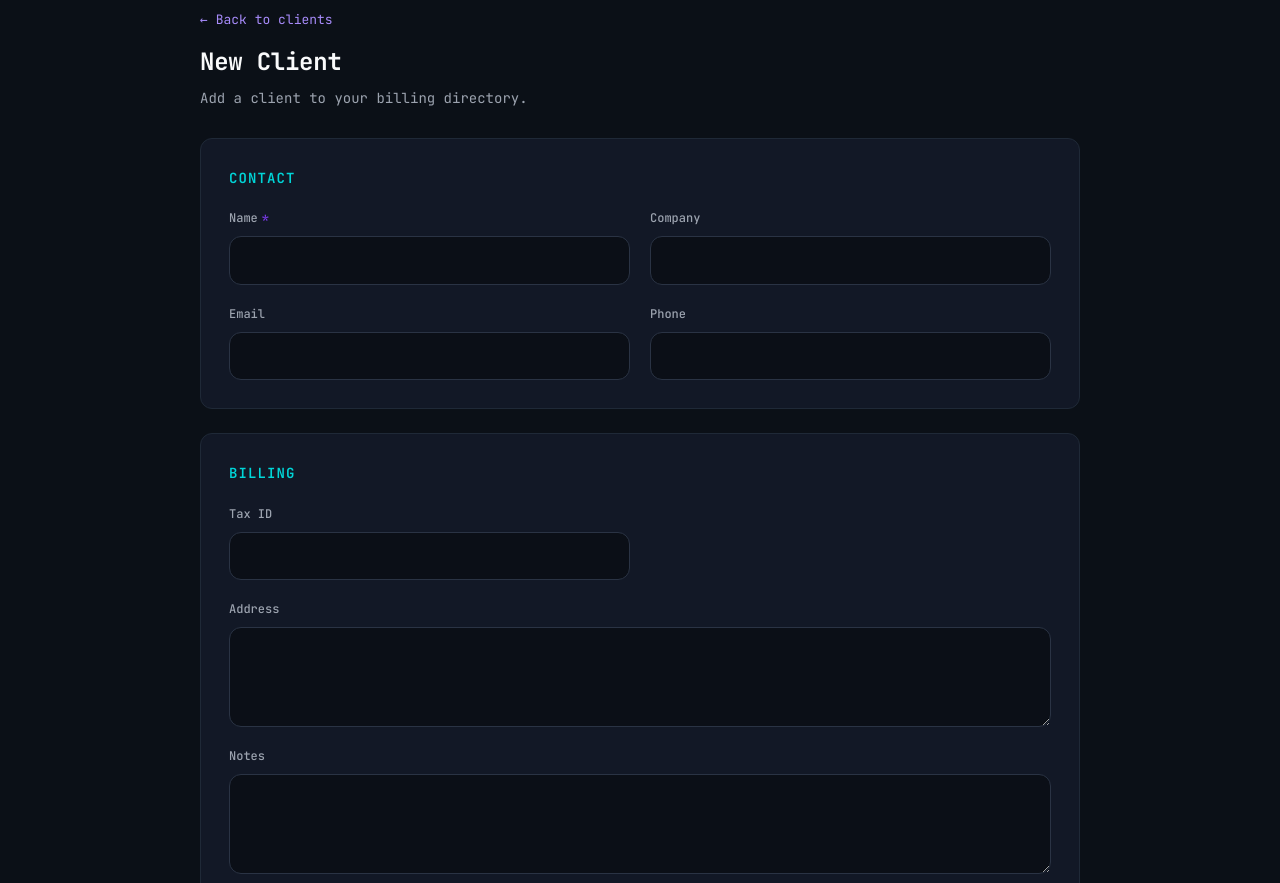
Test: NewClient page › shows API error on failure
Step 1. Type "X" into the field labelled "Name*" → (430, 260), box top-left (229, 236), bottom-right (630, 285)
(page scrolled)
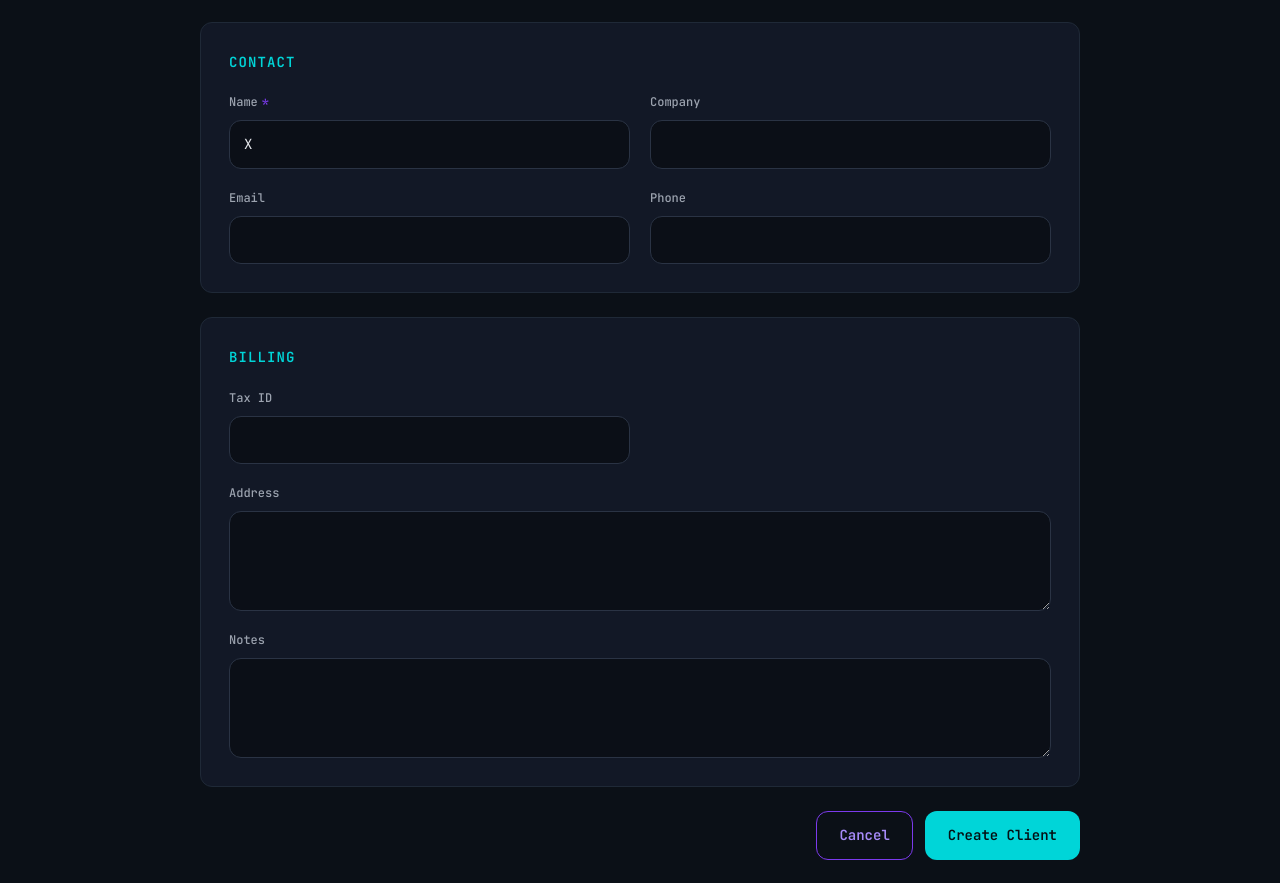
Step 2. Click the button "Create Client" → (1002, 836), box top-left (925, 812), bottom-right (1080, 860)
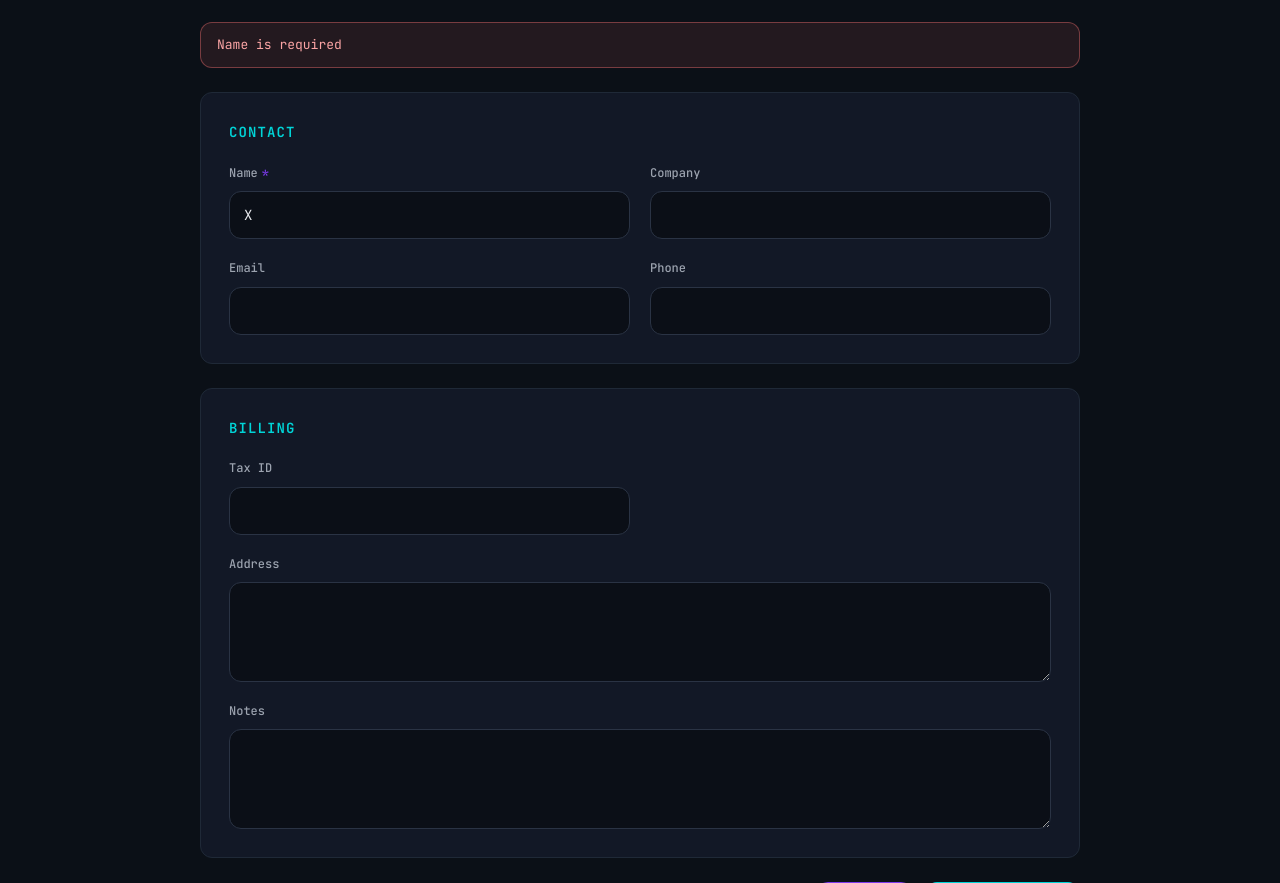
Now the message reads "Name is required", box top-left (217, 36), bottom-right (342, 53)
